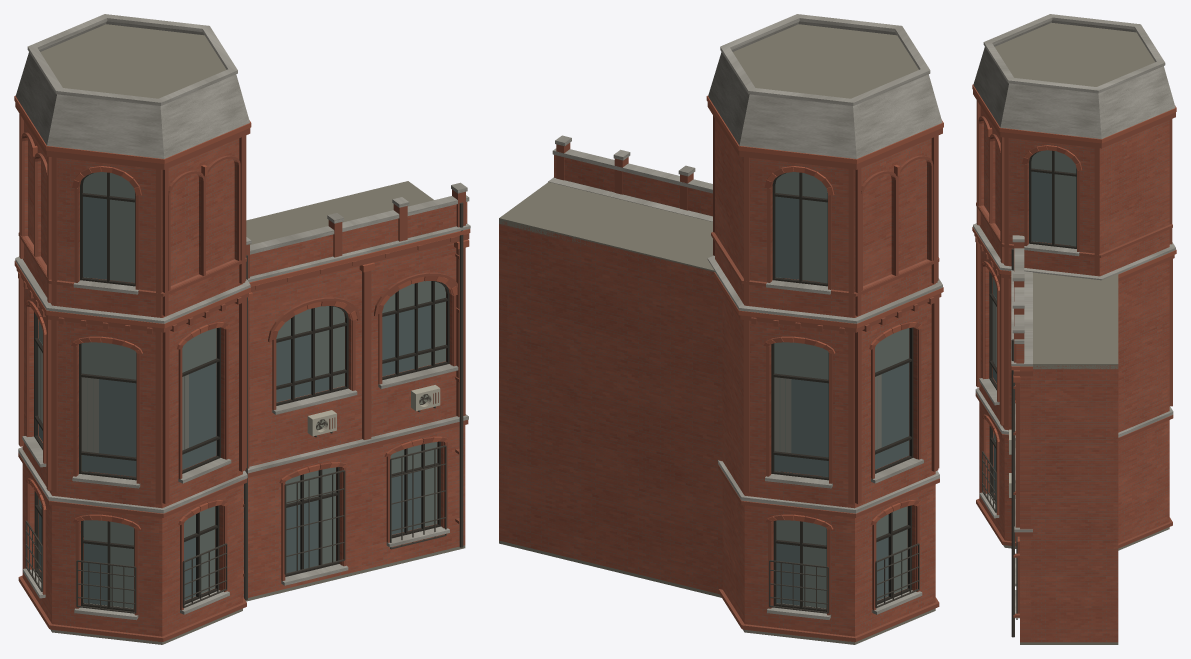
The model's file is jingan-daxin-tobacco-northeast-tower-lod.glb.
3 renders of one model, left to right at view 1: azimuth 30°, elevation 25°; view 2: azimuth 150°, elevation 25°; view 3: azimuth 270°, elevation 25°, orthographic. The views are drawn at different scales.
Parts seen in each view (by area): view 1: 观渡庐东北砖塔与短翼成对拱窗; view 2: 观渡庐东北砖塔与短翼成对拱窗; view 3: 观渡庐东北砖塔与短翼成对拱窗.
Part boxes in pixels (bbox=[...]): 观渡庐东北砖塔与短翼成对拱窗: bbox=[14, 14, 470, 644]; 观渡庐东北砖塔与短翼成对拱窗: bbox=[499, 14, 943, 644]; 观渡庐东北砖塔与短翼成对拱窗: bbox=[972, 14, 1176, 644].
Size of the model in its own units: 13.41 by 17.12 by 6.81.
Materials: 14 (3 with a texture image).
